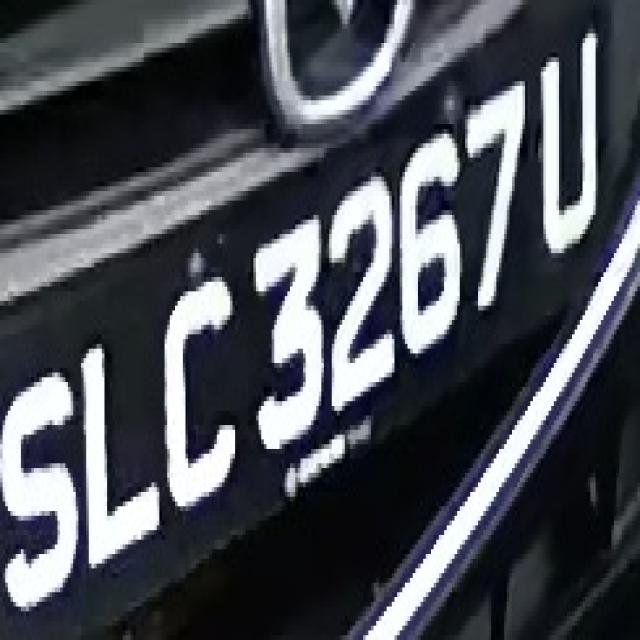2: (322, 182, 408, 425)
3: (240, 201, 324, 463)
6: (392, 119, 462, 368)
7: (460, 77, 528, 316)
C: (162, 272, 248, 516)
L: (73, 315, 165, 573)
S: (5, 349, 81, 611)
U: (530, 29, 598, 258)
